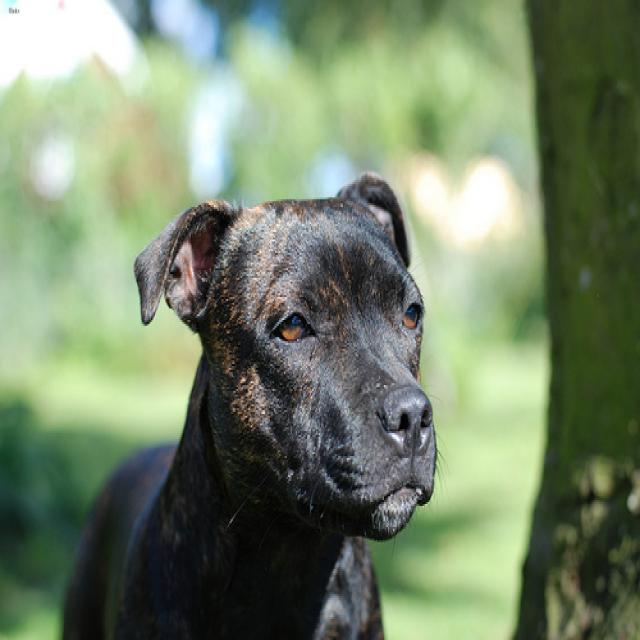dog-staffordshire_bull_terrier: (47, 165, 452, 636)
